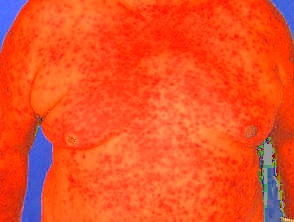SJS-TEN: (0, 0, 292, 221)
